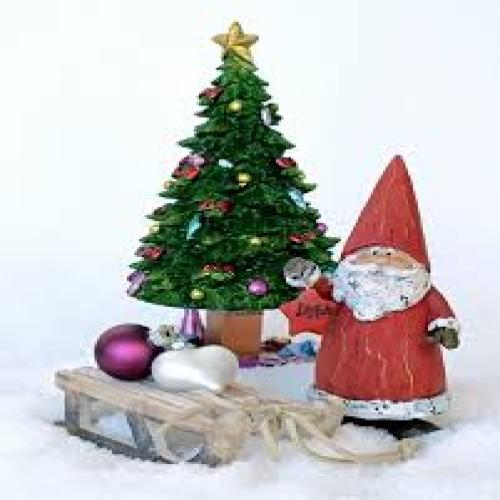Santa: (276, 152, 460, 442)
